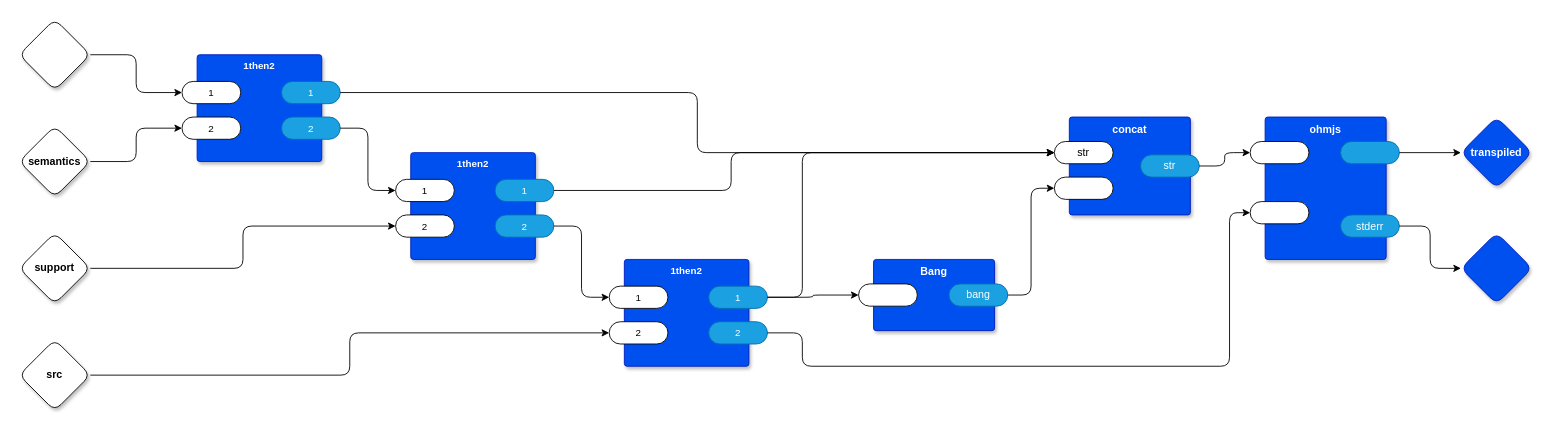
Image size: 1553x433. Some labels were removed from this diagram. Here are the shapes that lost their labels. From the top down, the centre of each, then its label:
At point 55,56: "grammar".
At point 1279,152: "args".
At point 1369,152: "stdout".
At point 1083,187: "flush".
At point 1279,212: "stdin".
At point 1496,269: "error".
At point 887,294: "any".
